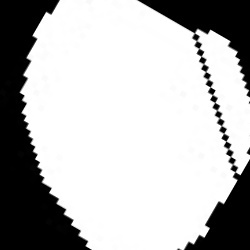spot: (24, 3, 248, 246)
